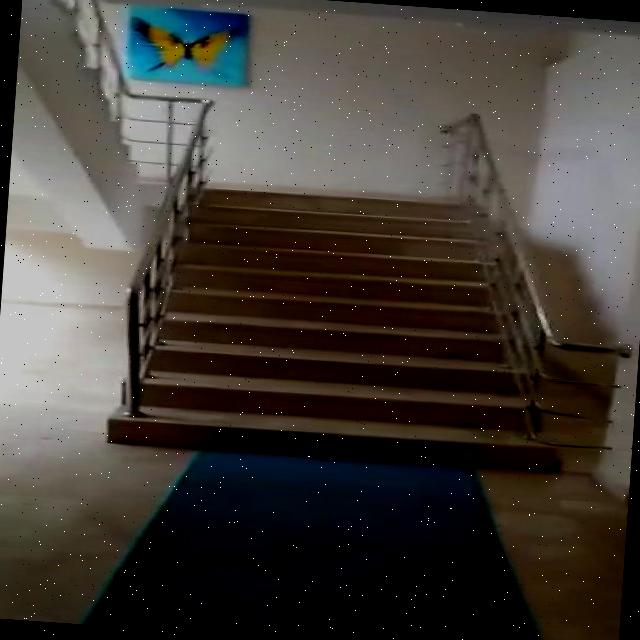stairs: (104, 176, 592, 474)
